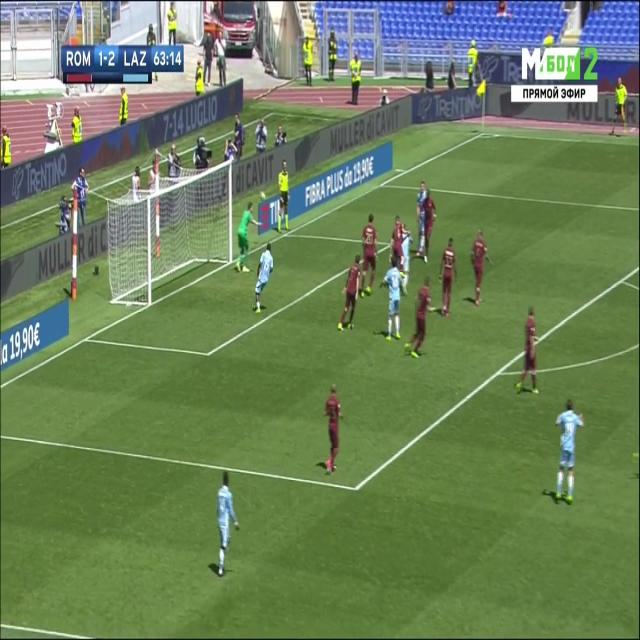Ball: (260, 190, 268, 204)
Goalkeeper: (234, 198, 264, 276)
Player: (550, 397, 586, 506), (216, 466, 244, 578), (512, 305, 541, 396), (380, 253, 408, 342), (404, 274, 431, 362), (334, 250, 362, 334), (323, 380, 346, 480), (438, 233, 458, 324), (469, 227, 491, 306), (252, 241, 275, 315), (362, 213, 381, 299), (420, 188, 440, 263), (414, 180, 426, 260), (401, 220, 412, 300), (390, 212, 405, 261)
Referee: (606, 74, 629, 138), (275, 155, 293, 234)
